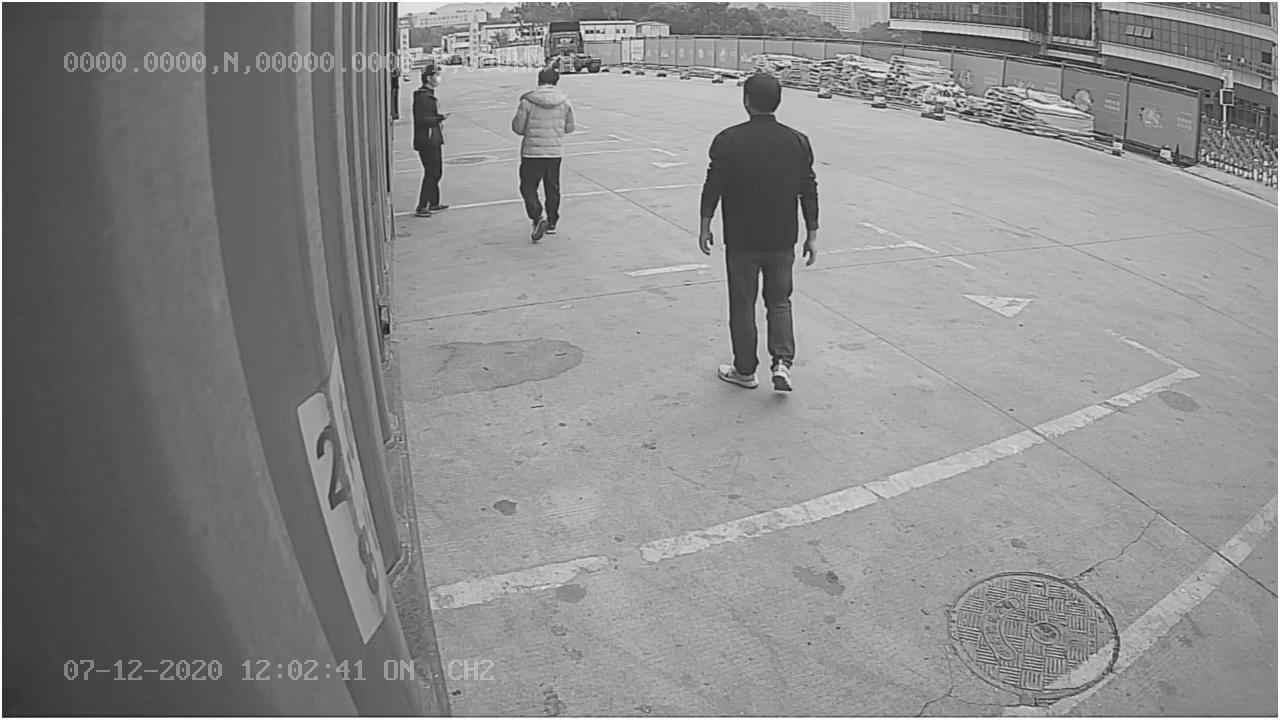person: (697, 62, 822, 397)
